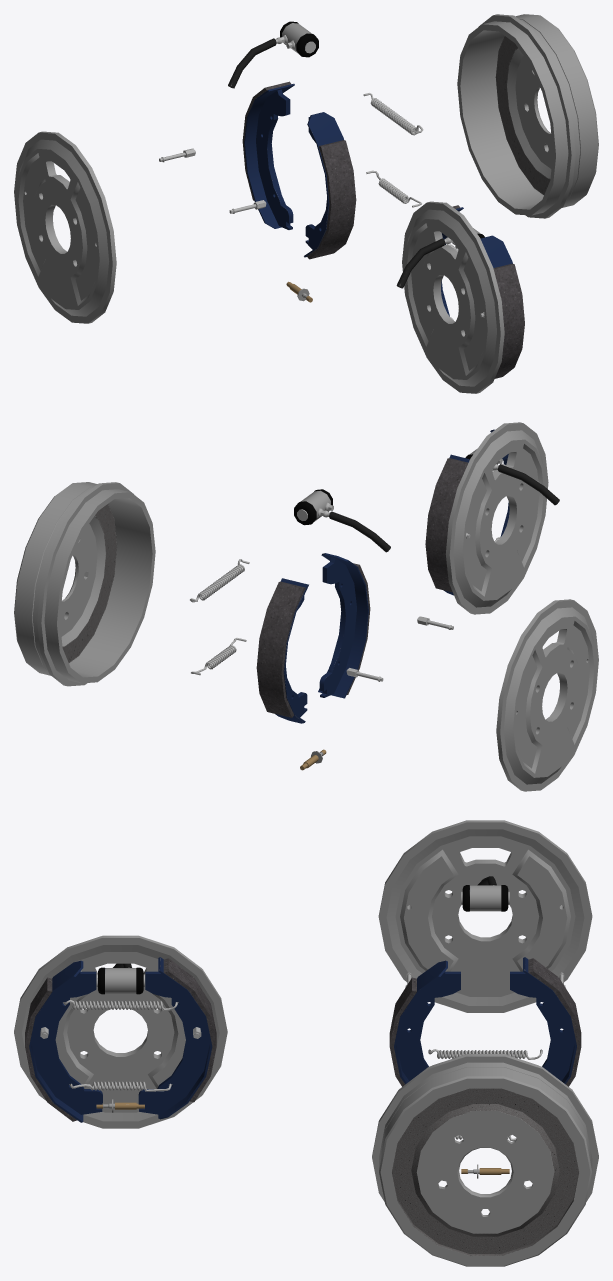
Rendered from tcc_models-drum_brakes.glb.
The picture shows the model from 3 angles, top to bottom: view 1: azimuth 30°, elevation 25°; view 2: azimuth 150°, elevation 25°; view 3: azimuth 270°, elevation 25°; orthographic projection. The views are drawn at different scales.
Parts seen in each view (by area): view 1: tambor, tambor_completo, tampa_traseira, sapatas, pistao, molas; view 2: tambor, tambor_completo, tampa_traseira, sapatas, pistao, molas; view 3: tambor, tambor_completo, tampa_traseira, sapatas, pistao, molas.
Boxes of the visible parts, x1,y1,x2,y2 form: tambor: (457,14,598,218); tambor_completo: (396,201,524,393); tampa_traseira: (14,131,116,323); sapatas: (159,81,356,259); pistao: (228,21,318,88); molas: (363,93,423,207); tambor: (14,482,155,686); tambor_completo: (425,422,559,614); tampa_traseira: (496,599,598,791); sapatas: (256,553,453,723); pistao: (294,489,390,552); molas: (190,559,249,675); tambor: (372,1054,598,1266); tambor_completo: (14,935,227,1128); tampa_traseira: (378,820,592,1012); sapatas: (389,957,581,1086); pistao: (461,876,509,911); molas: (428,1049,542,1140).
Size of the model in its own units: 0.6737 by 0.3536 by 0.6416.
Materials: 3 (3 with a texture image).
